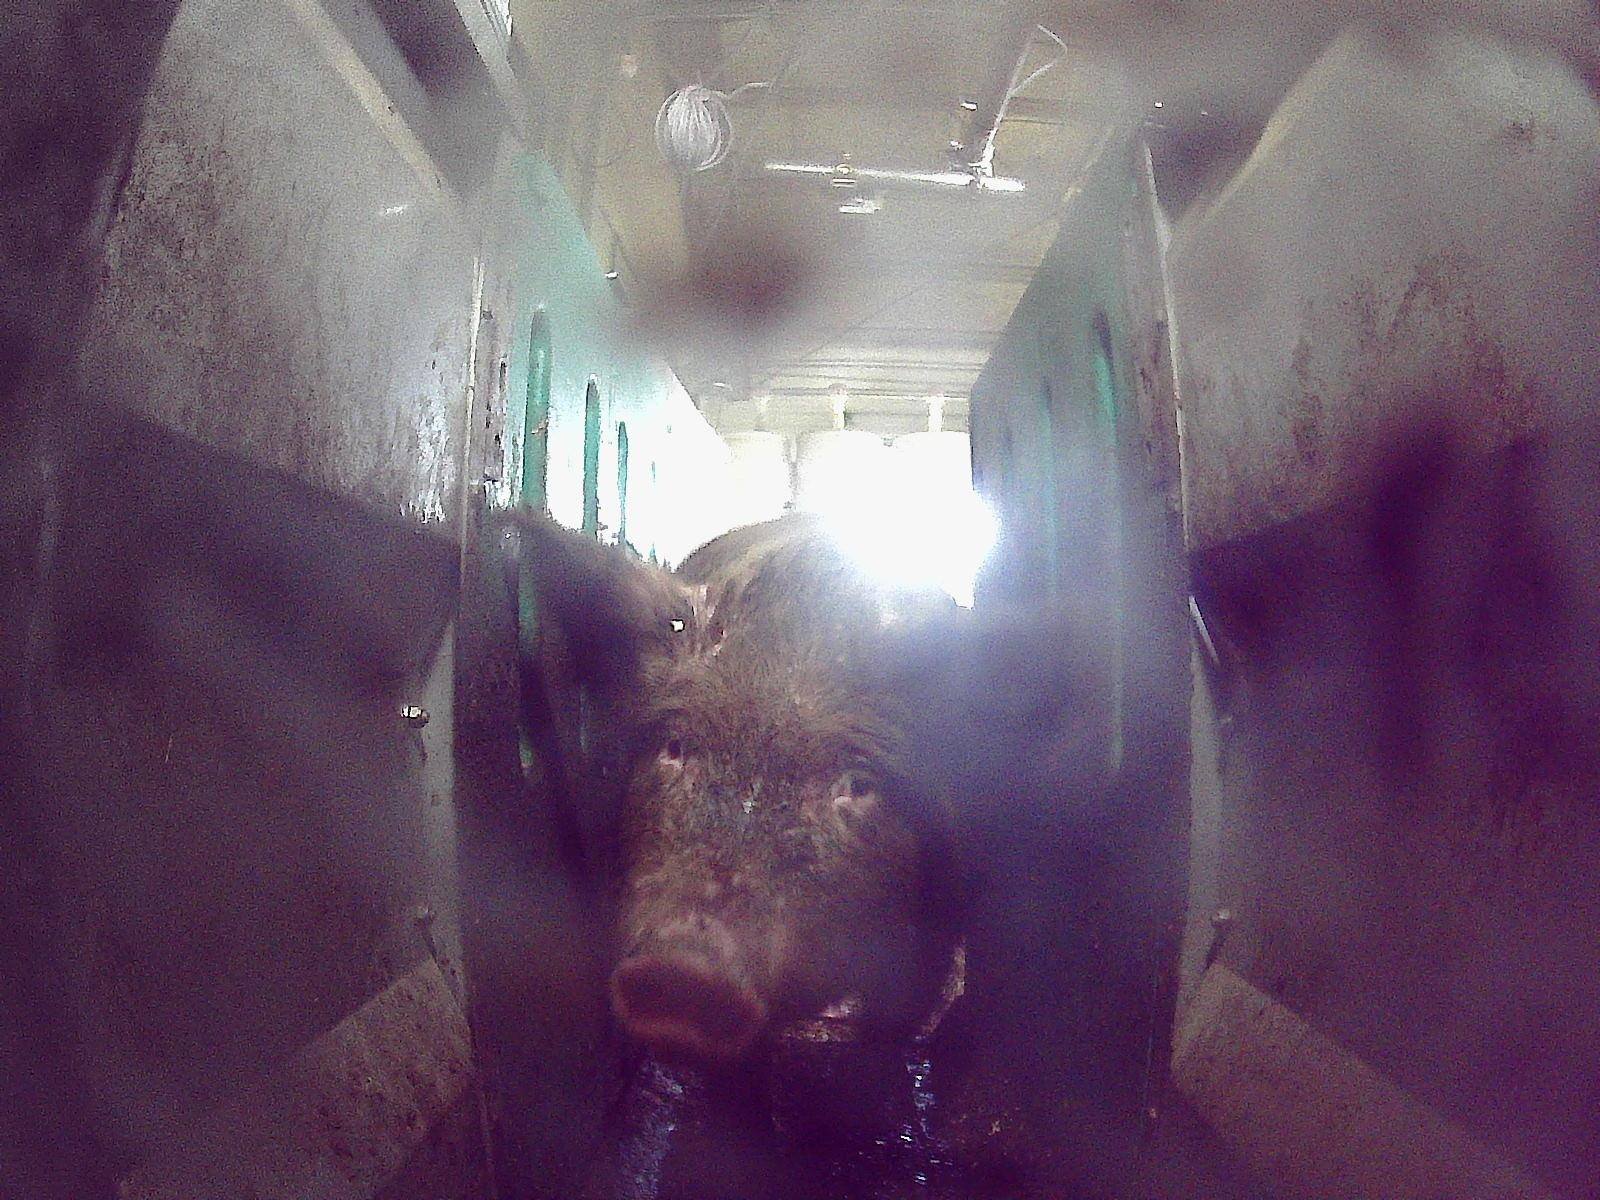Face: (595, 585, 933, 1065)
